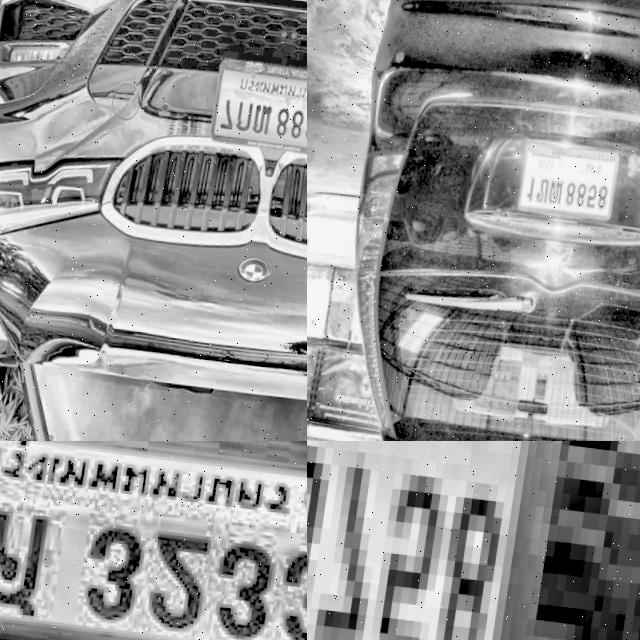license-plate: (307, 441, 640, 640), (0, 441, 307, 640), (213, 49, 307, 148), (522, 134, 628, 217)
